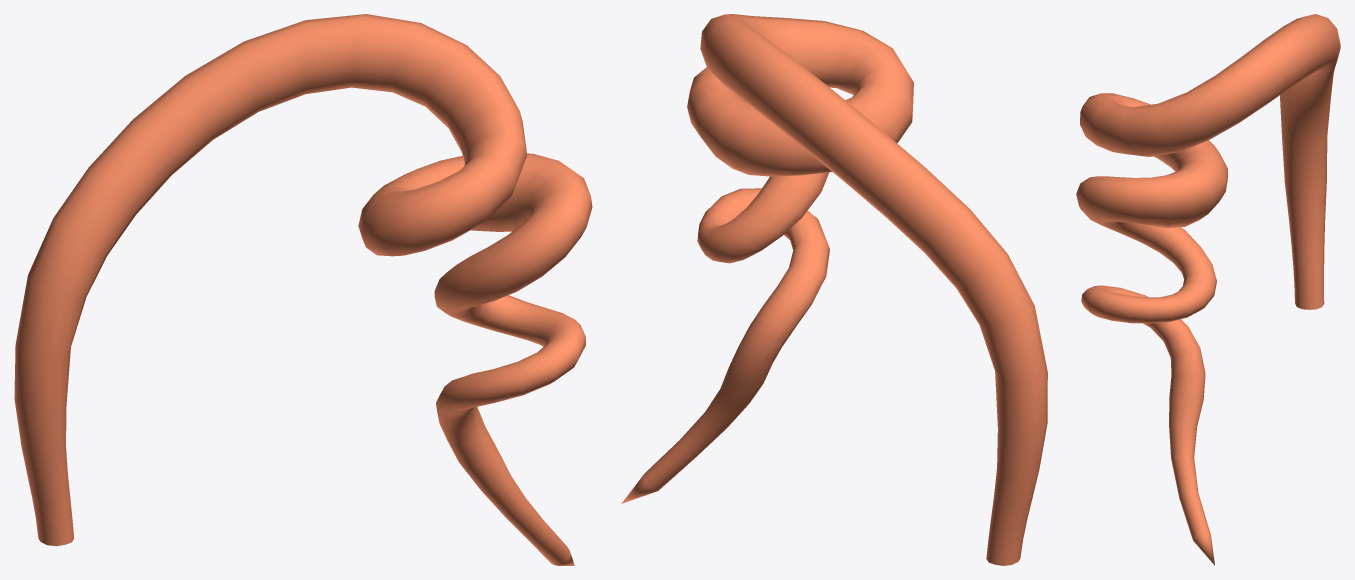
File: PullingVine.fbx
The picture shows the model from 3 angles, left to right: view 1: azimuth 30°, elevation 25°; view 2: azimuth 150°, elevation 25°; view 3: azimuth 270°, elevation 25°; orthographic projection. The views are drawn at different scales.
Parts seen in each view (by area): view 1: BezierCurve.002; view 2: BezierCurve.002; view 3: BezierCurve.002.
Boxes of the visible parts, <box> form: BezierCurve.002: <box>14,14,592,565</box>; BezierCurve.002: <box>621,14,1047,565</box>; BezierCurve.002: <box>1076,14,1340,565</box>.
Bounding box in the file's own units: 2.06 × 2.21 × 1.16.
